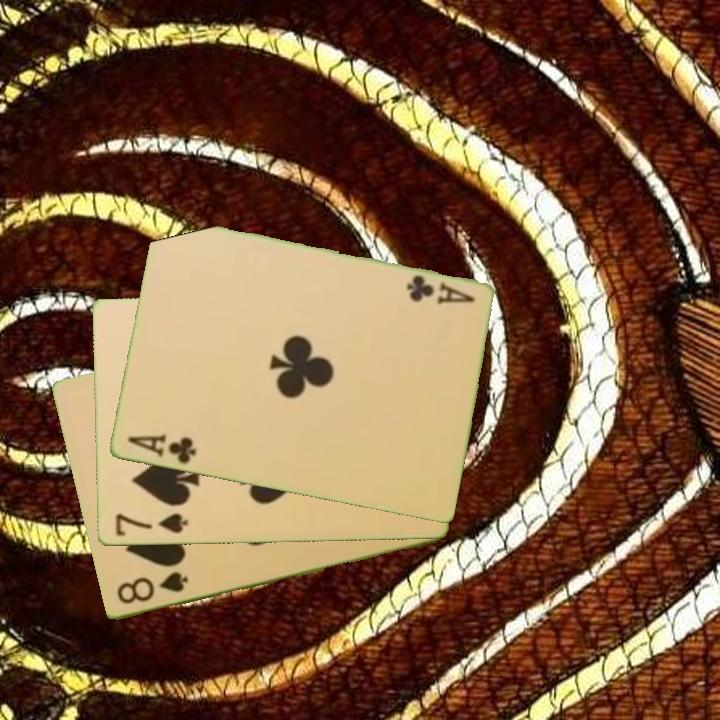7s: (111, 510, 190, 540)
8s: (113, 568, 191, 608)
Ac: (123, 430, 199, 467), (402, 272, 477, 308)
